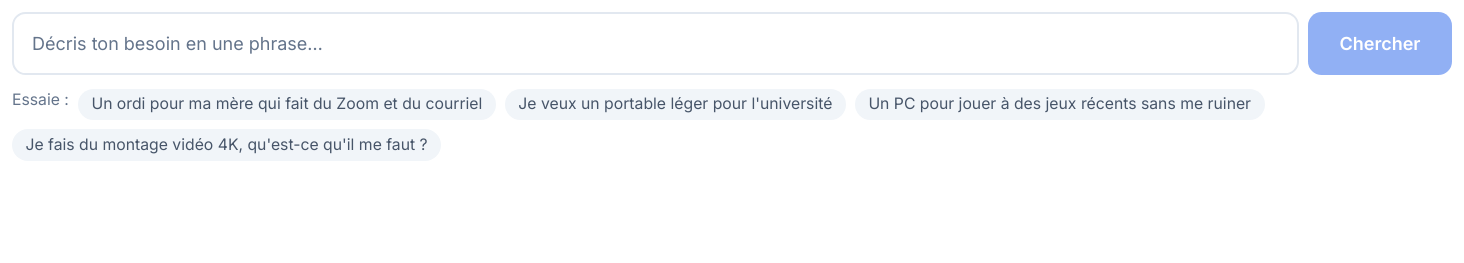
Test case: SearchBar › shows error message on fetch failure
Type "un ordi pour le courriel" into the field with placeholder "Décris ton besoin en une phrase…" at coordinates (656, 44), box [12,12,1299,75]
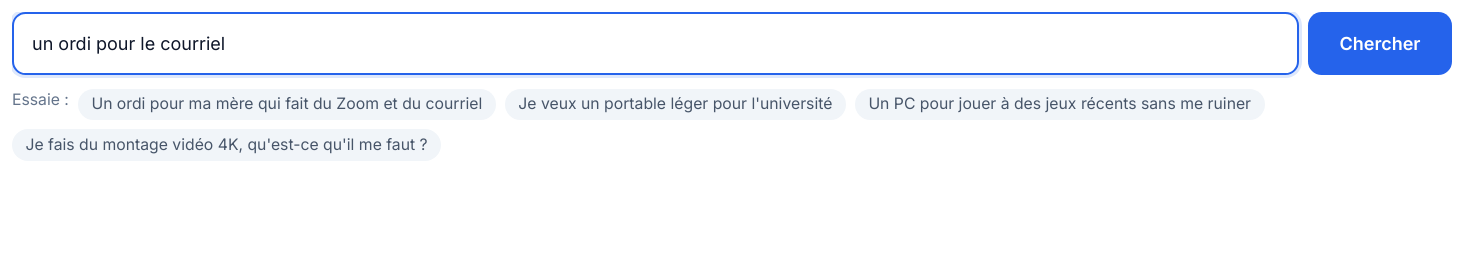
Click the button "Chercher" at coordinates (1380, 44), box [1308,12,1452,75]
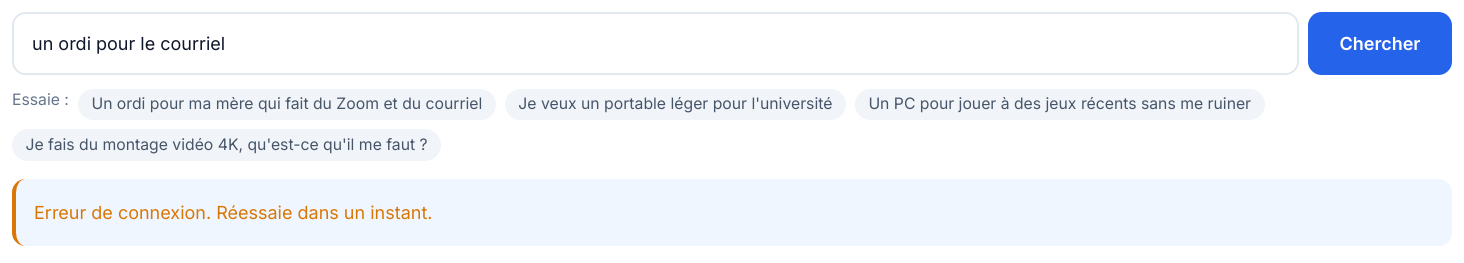
Now the text "Erreur de connexion. Réessaie dans un instant." is shown, box [12,178,1452,246]
